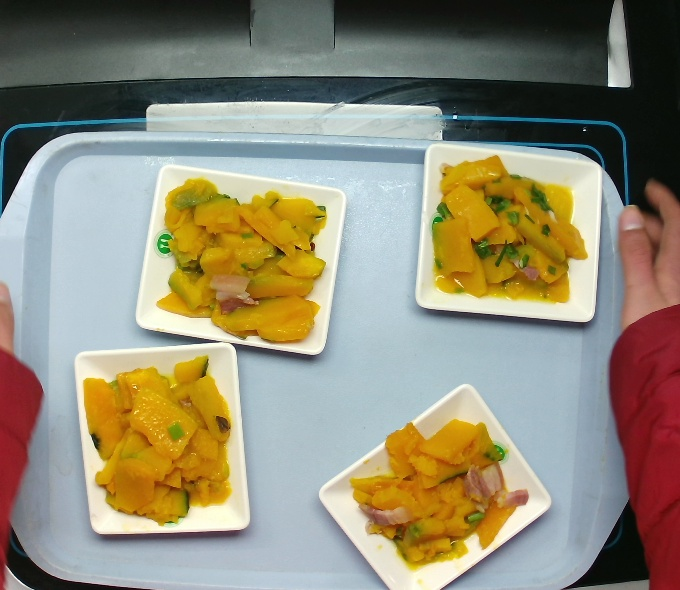wcq-NanGuaChaoLaRou: (150, 175, 329, 348), (351, 416, 532, 574), (78, 352, 238, 528), (428, 151, 591, 306)
